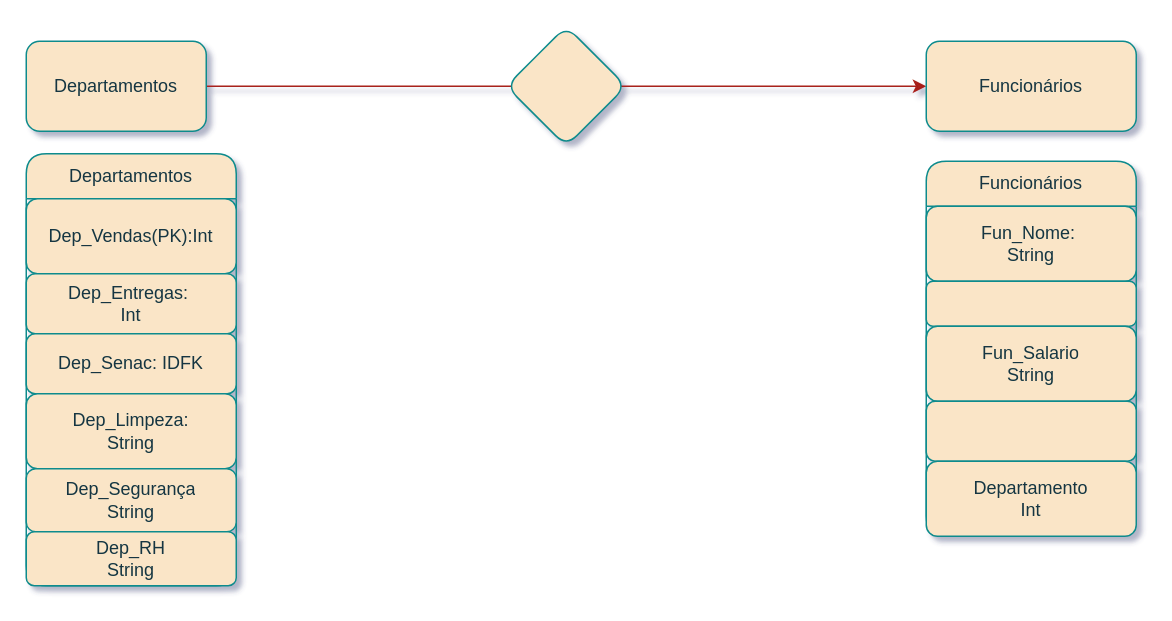
The diagram is 1172 pixels wide and 621 high, and some of its shapes have lost their labels. The shapes that lost their labels are listed below. From the top down, each one's centre as x and y in pixels, then its label:
At [565,85]: "Lotação".
At [1030,303]: "Fun_CPF String".
At [1030,430]: "Fun_Cargo Int".
